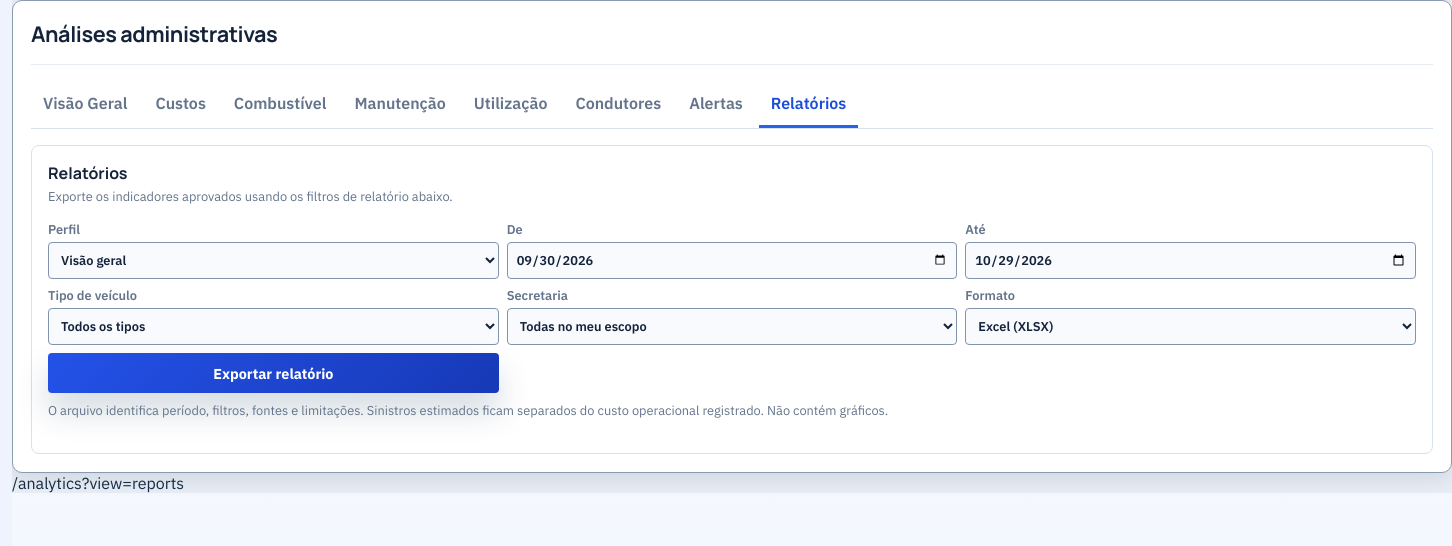
Test case: Analytics — fundação V1 › explica a permissão negada pelo exportador V2 quando a resposta é blob
Select "Condutores" in the dropdown labelled "Perfil" at (273, 261), box [48,242,499,279]
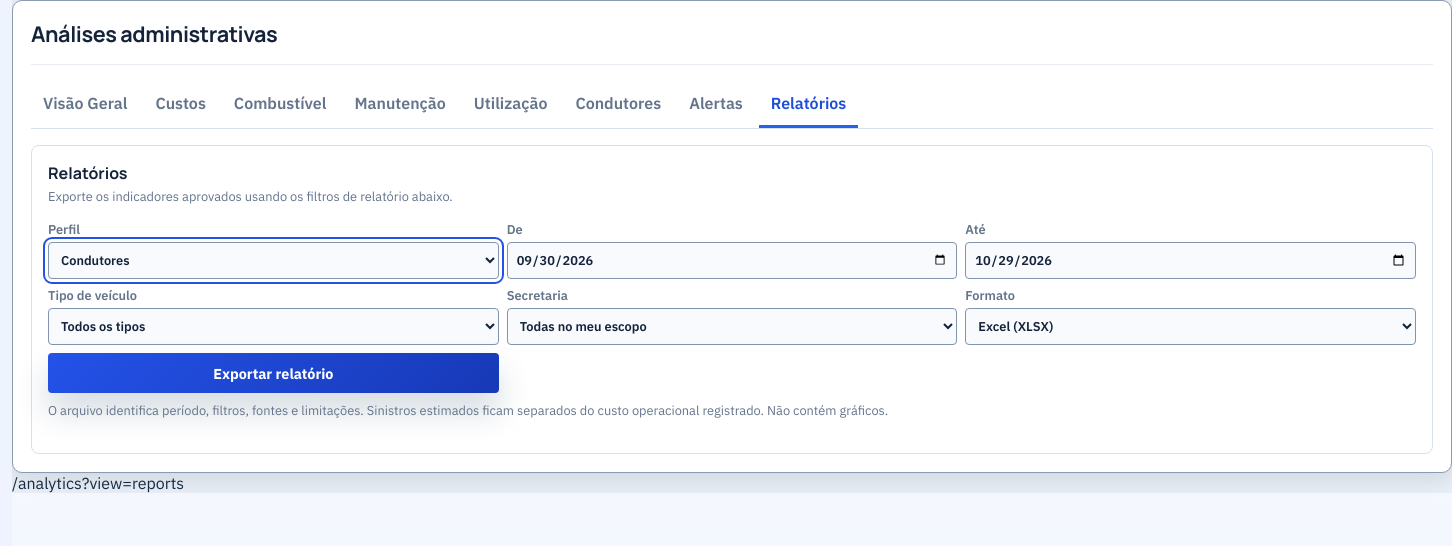
Click the button "Exportar relatório".
click(273, 373)  # box [48,353,499,393]
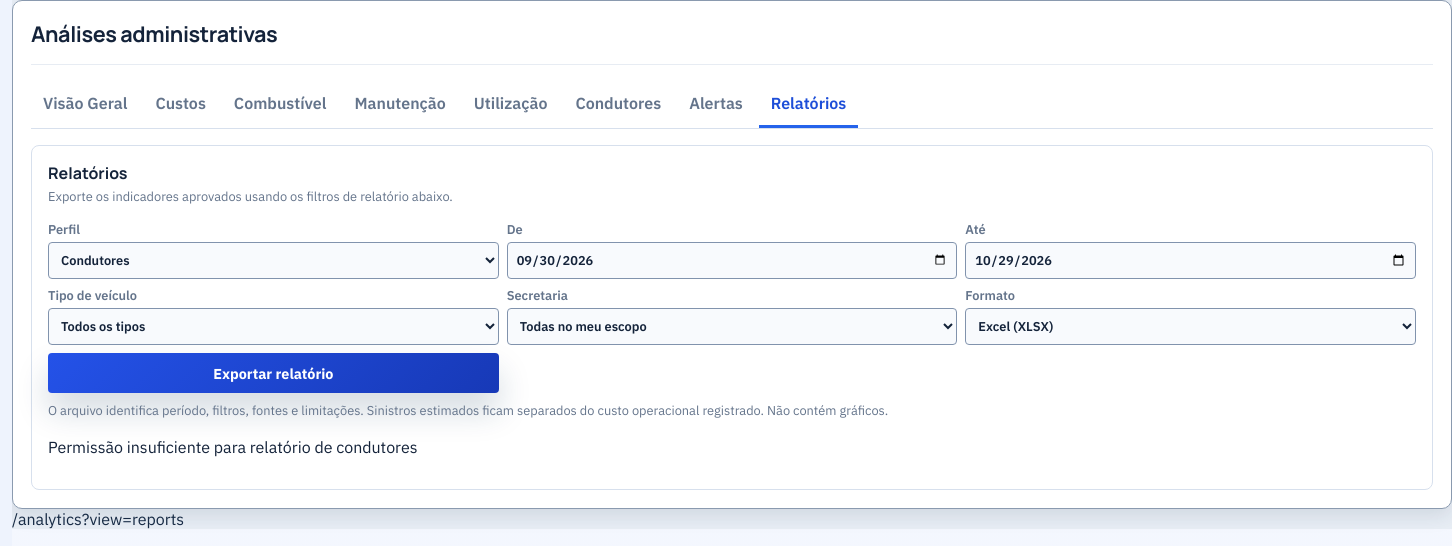
Result: the message reads "Permissão insuficiente para relatório de condutores" at [48,437,418,457]
